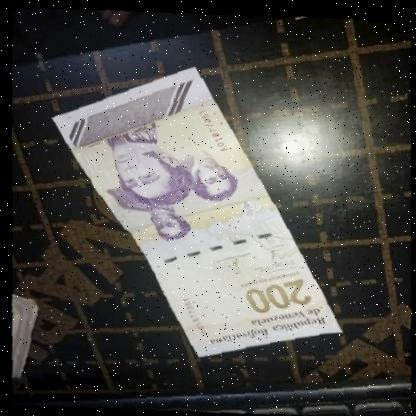two_hundred-front-vef: (37, 55, 356, 367)
